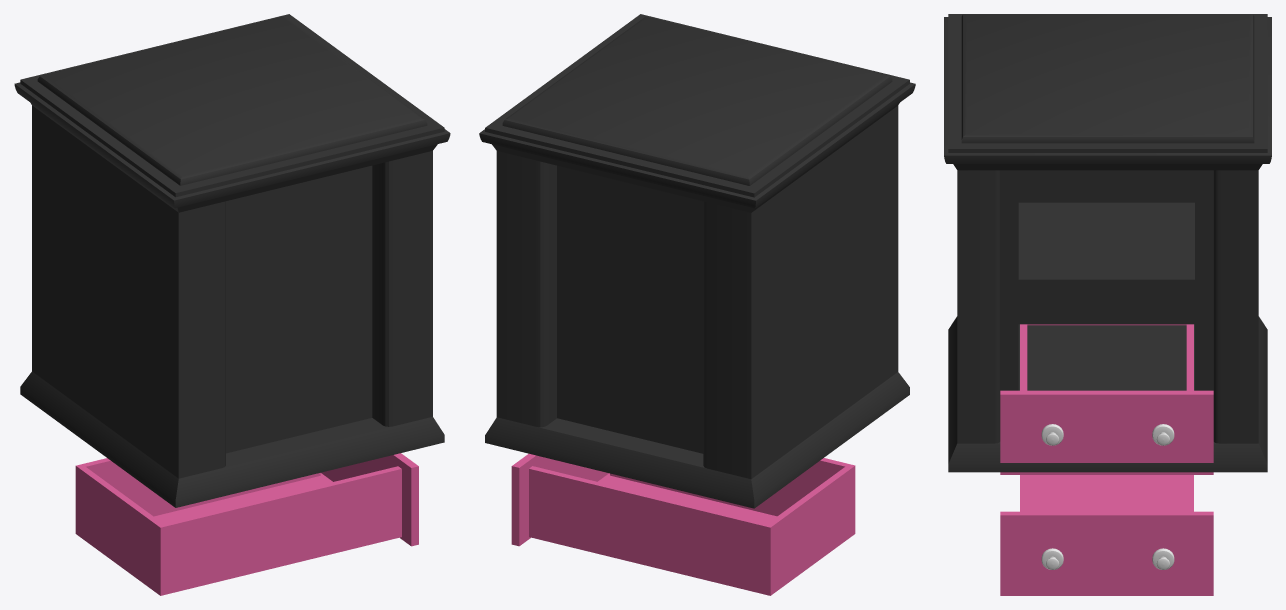
Rendered from bedsidedrawer7.fbx.
3 views of the same model, side by side, from view 1: azimuth 30°, elevation 25°; view 2: azimuth 150°, elevation 25°; view 3: azimuth 270°, elevation 25° (orthographic). The views are drawn at different scales.
Parts seen in each view (by area): view 1: Upper, buttons; view 2: Upper, buttons; view 3: Upper, buttons.
Part boxes in pixels (bbox=[...]): Upper: bbox=[14, 14, 450, 507]; buttons: bbox=[75, 453, 418, 595]; Upper: bbox=[479, 14, 915, 508]; buttons: bbox=[511, 453, 855, 595]; Upper: bbox=[944, 14, 1271, 472]; buttons: bbox=[1000, 324, 1213, 595].
Size of the model in its own units: 224 by 333 by 218.
